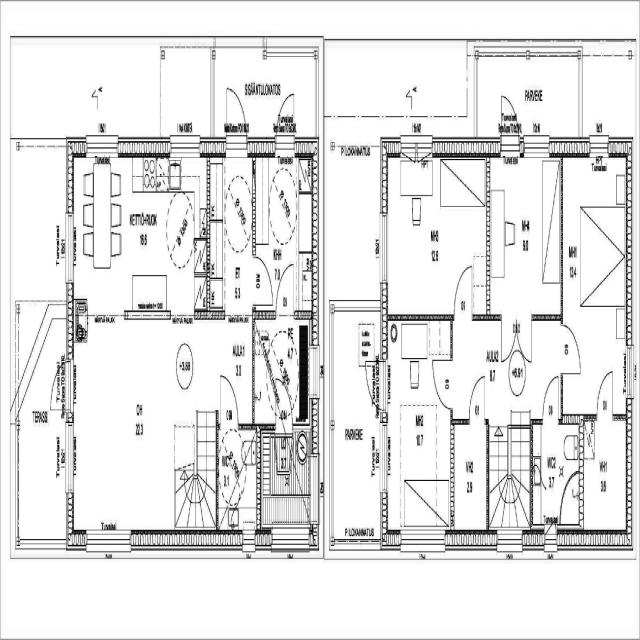door: (224, 84, 247, 149), (451, 260, 475, 322), (558, 468, 582, 530), (559, 319, 582, 378), (431, 354, 454, 412), (274, 93, 296, 151), (594, 364, 616, 420), (218, 370, 240, 426), (498, 96, 520, 152), (253, 250, 274, 308), (275, 262, 297, 317), (540, 370, 562, 423), (467, 371, 488, 424)
window: (82, 526, 133, 564), (268, 528, 311, 561), (64, 415, 76, 503), (378, 205, 390, 287), (521, 132, 553, 162), (85, 134, 120, 161), (64, 196, 74, 287), (400, 133, 435, 158), (493, 532, 523, 560), (64, 352, 75, 424), (588, 132, 611, 166), (173, 135, 204, 160), (625, 340, 635, 404), (382, 423, 390, 498), (240, 526, 257, 560)
zone: (73, 158, 212, 306), (562, 157, 631, 420), (383, 160, 485, 316), (387, 317, 452, 536), (487, 155, 561, 310), (11, 146, 70, 306), (256, 154, 314, 313), (210, 153, 256, 316), (581, 414, 631, 550), (530, 418, 582, 530), (261, 429, 313, 537), (253, 318, 303, 424), (216, 423, 260, 531), (451, 418, 488, 544)
